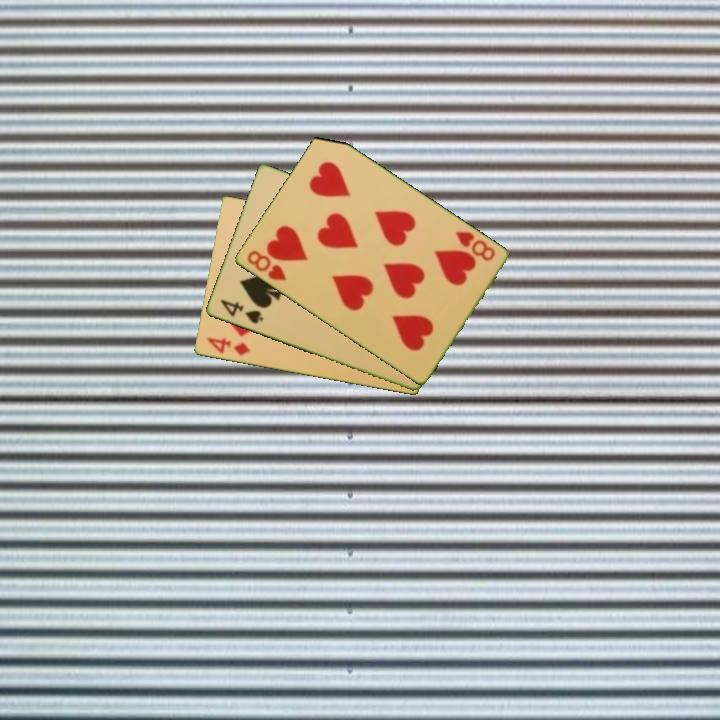4d: (203, 334, 253, 359)
4s: (216, 296, 266, 327)
8h: (243, 247, 289, 284), (452, 228, 498, 264)
